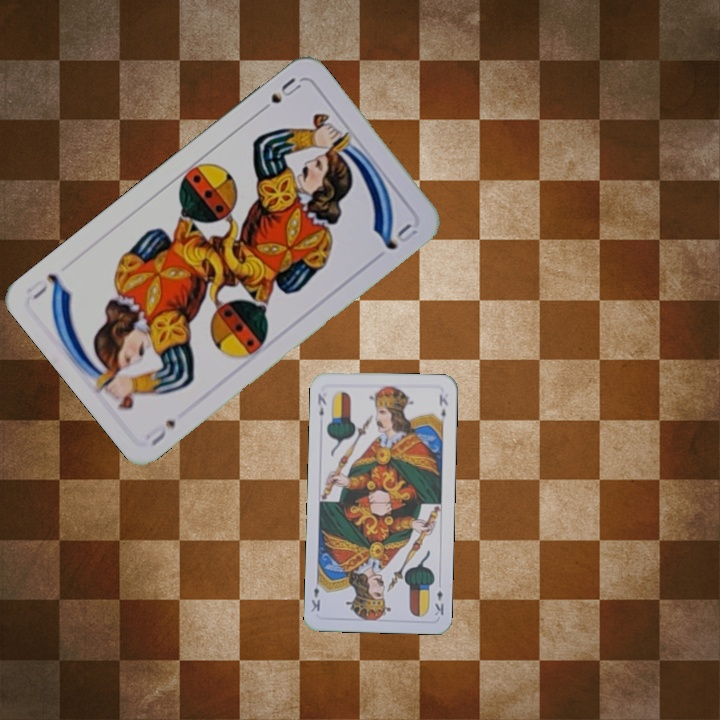EK: (431, 586, 446, 618), (314, 390, 329, 419)
SU: (253, 73, 304, 117), (141, 415, 179, 448)
